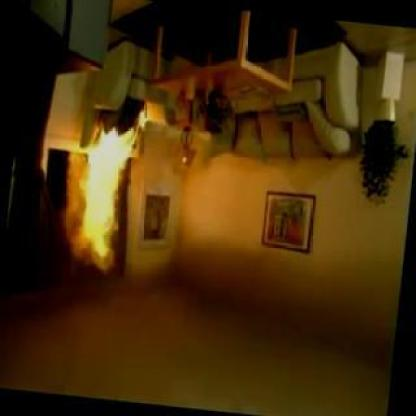Fire: (70, 120, 136, 278)
